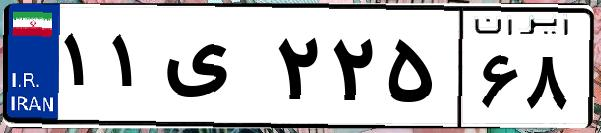1: (57, 26, 110, 100), (110, 28, 158, 98)
2: (270, 28, 330, 110), (330, 28, 385, 110)
5: (385, 28, 445, 110)
6: (475, 38, 525, 113)
8: (525, 38, 570, 115)
ی: (158, 20, 270, 120)
